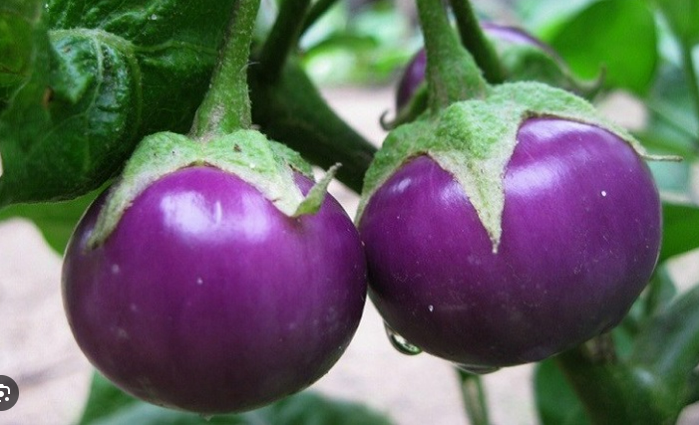catim: (58, 80, 381, 421), (332, 98, 685, 366)
